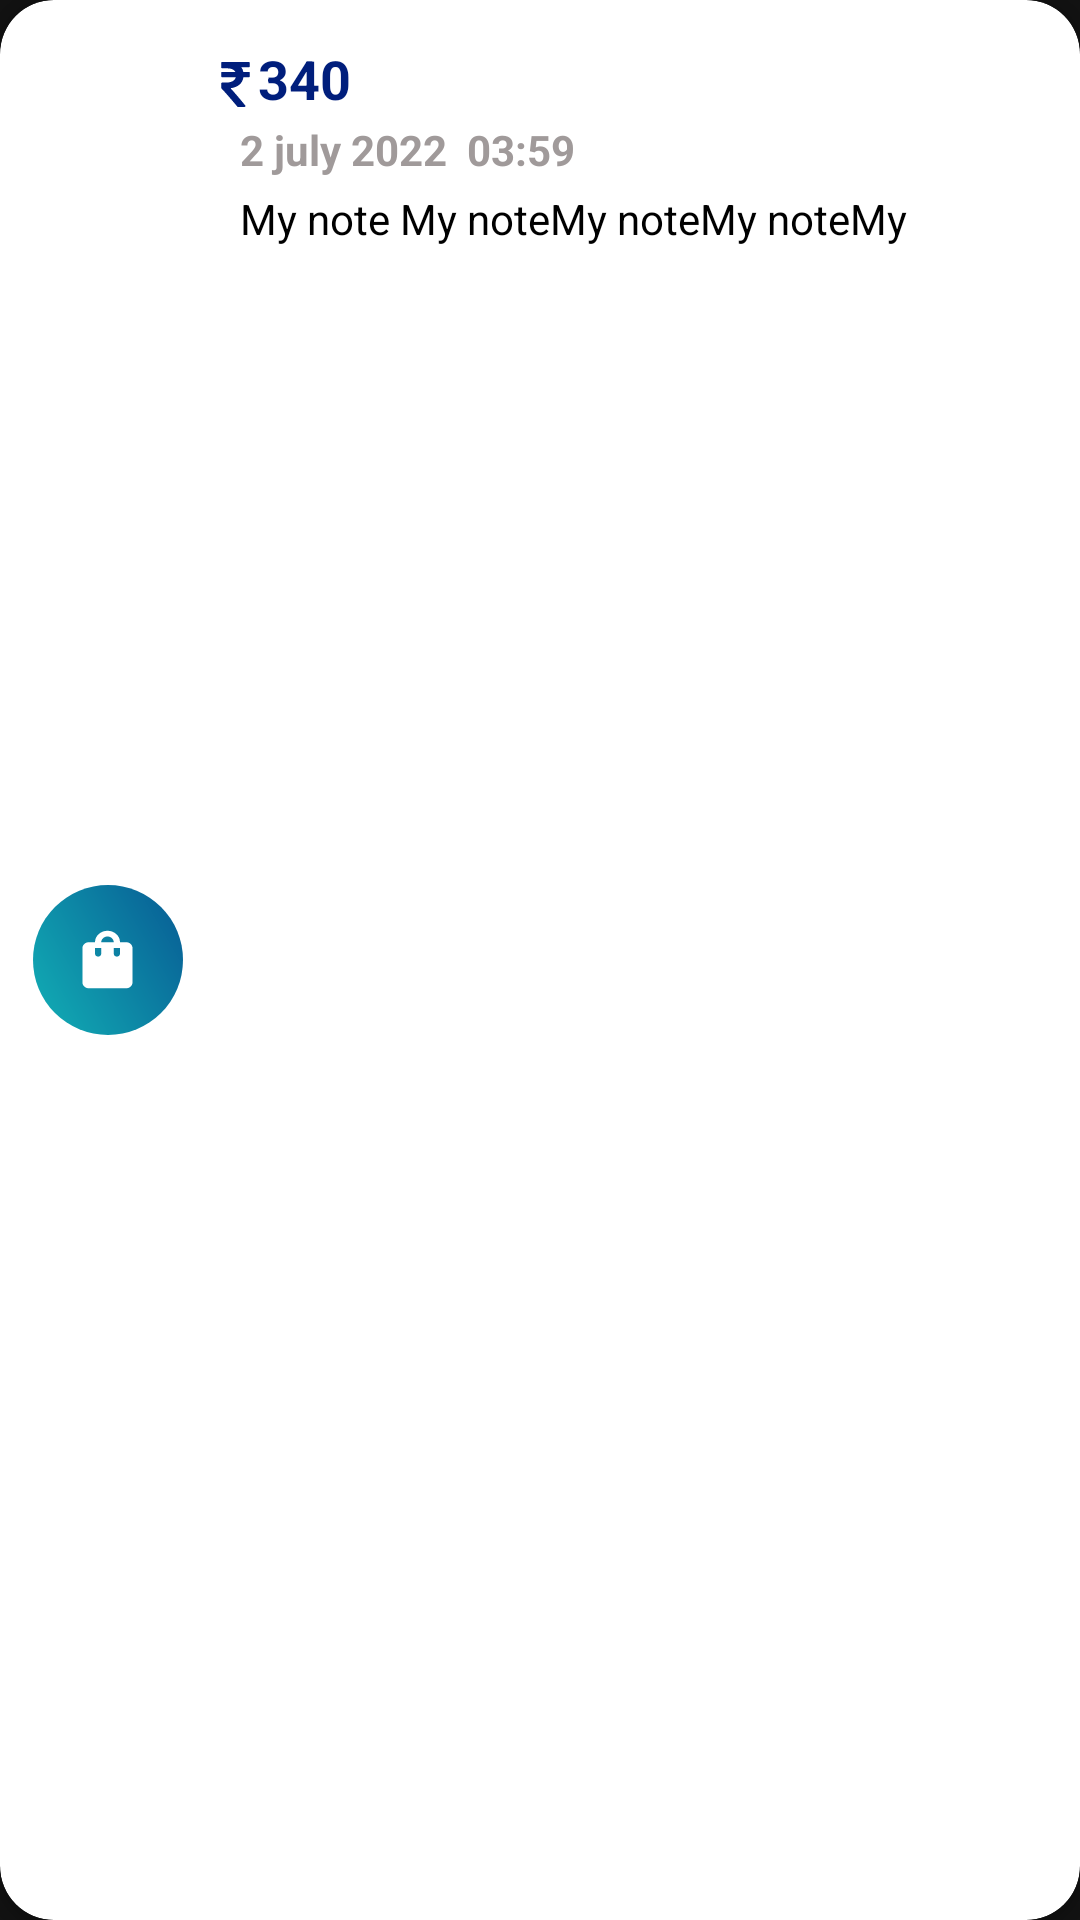

Point at icon controls on the screen. Image size 1080px x 1920px, points as point (x, y).
rupees: point (235, 84)
shoping: point (113, 957)
